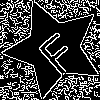F: (28, 23, 83, 78)
